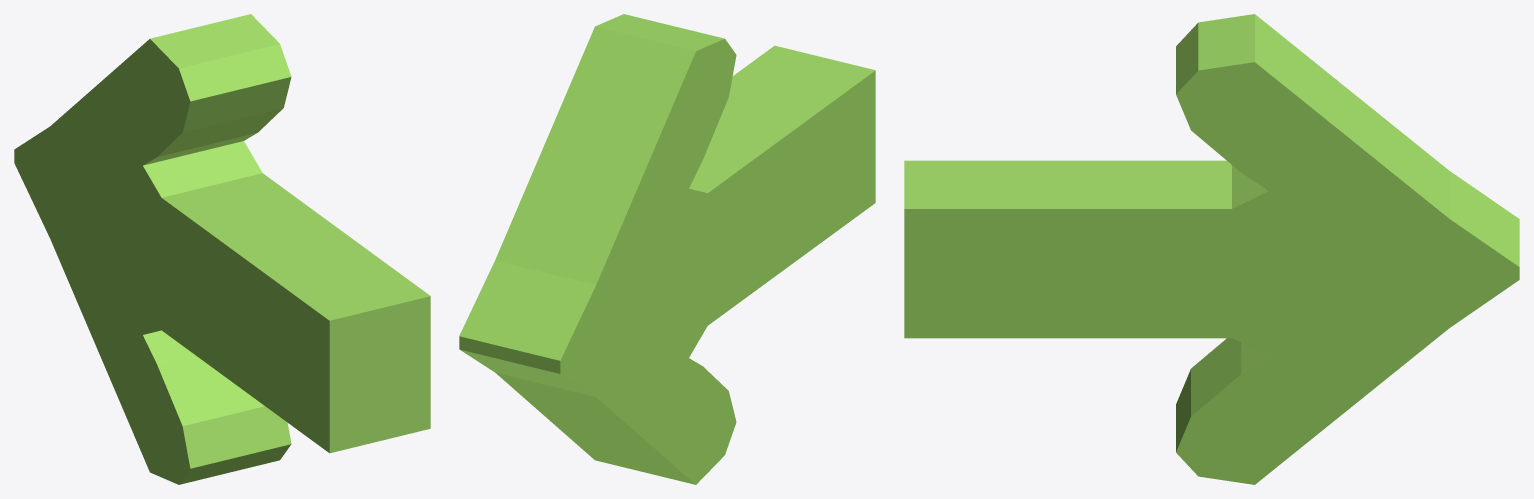
Rendered from RotateSwipeHintArrow.fbx.
3 renders of one model, left to right at view 1: azimuth 30°, elevation 25°; view 2: azimuth 150°, elevation 25°; view 3: azimuth 270°, elevation 25°, orthographic. The views are drawn at different scales.
Visible parts, largest first — view 1: Cube; view 2: Cube; view 3: Cube.
Part boxes in pixels (x1=…): Cube: x1=14, y1=14, x2=430, y2=484; Cube: x1=459, y1=14, x2=875, y2=484; Cube: x1=904, y1=14, x2=1519, y2=484.
Size of the model in its own units: 62.5 by 256 by 338.
1 material, 1 textured.
